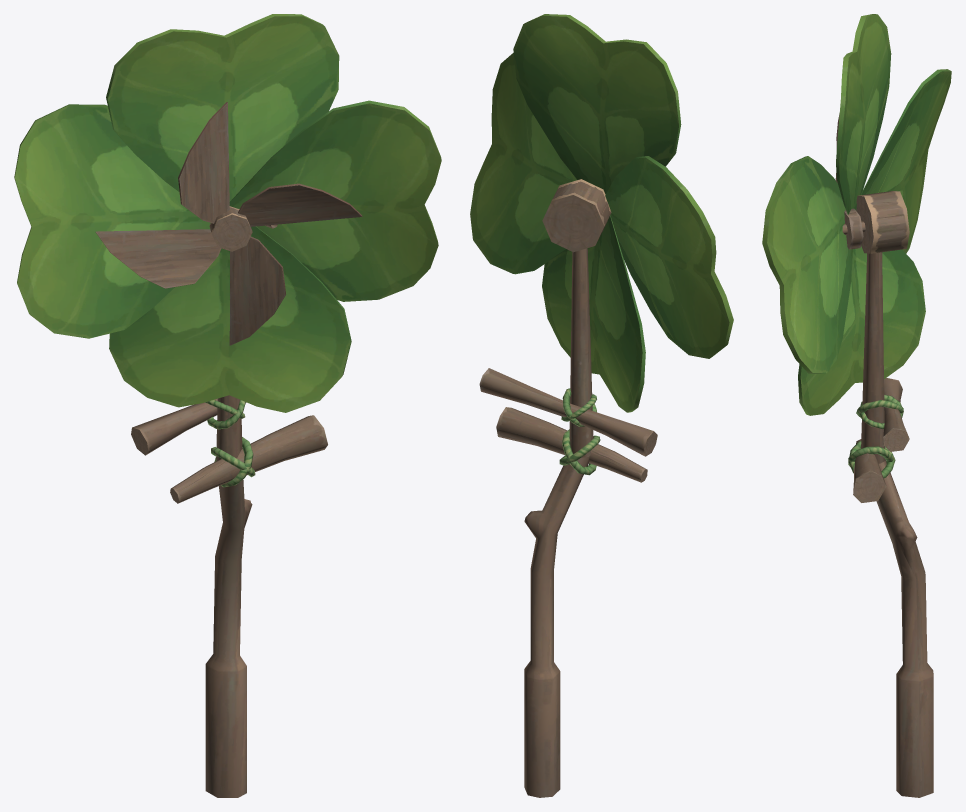
File: windmill.glb
3 views of the same model, side by side, from view 1: azimuth 30°, elevation 25°; view 2: azimuth 150°, elevation 25°; view 3: azimuth 270°, elevation 25° (orthographic). The views are drawn at different scales.
Visible parts, largest first — view 1: Item_Gear_WindMill_Leaves_B_Vo_0_5, Item_Gear_WindMill_Main_Vo_0_2, Item_Gear_WindMill_Leaves_A_Vo_0_4; view 2: Item_Gear_WindMill_Leaves_B_Vo_0_5, Item_Gear_WindMill_Main_Vo_0_2; view 3: Item_Gear_WindMill_Leaves_B_Vo_0_5, Item_Gear_WindMill_Main_Vo_0_2.
Boxes of the visible parts, box(x1,y1,x2,y2) form: Item_Gear_WindMill_Leaves_B_Vo_0_5: box(14, 14, 441, 412); Item_Gear_WindMill_Main_Vo_0_2: box(131, 224, 327, 797); Item_Gear_WindMill_Leaves_A_Vo_0_4: box(95, 102, 362, 345); Item_Gear_WindMill_Leaves_B_Vo_0_5: box(470, 14, 733, 412); Item_Gear_WindMill_Main_Vo_0_2: box(479, 179, 657, 797); Item_Gear_WindMill_Leaves_B_Vo_0_5: box(762, 14, 951, 415); Item_Gear_WindMill_Main_Vo_0_2: box(842, 191, 933, 797).
Bounding box in the file's own units: 0.9933 × 2.18 × 0.5071.
1 material, 1 textured.
